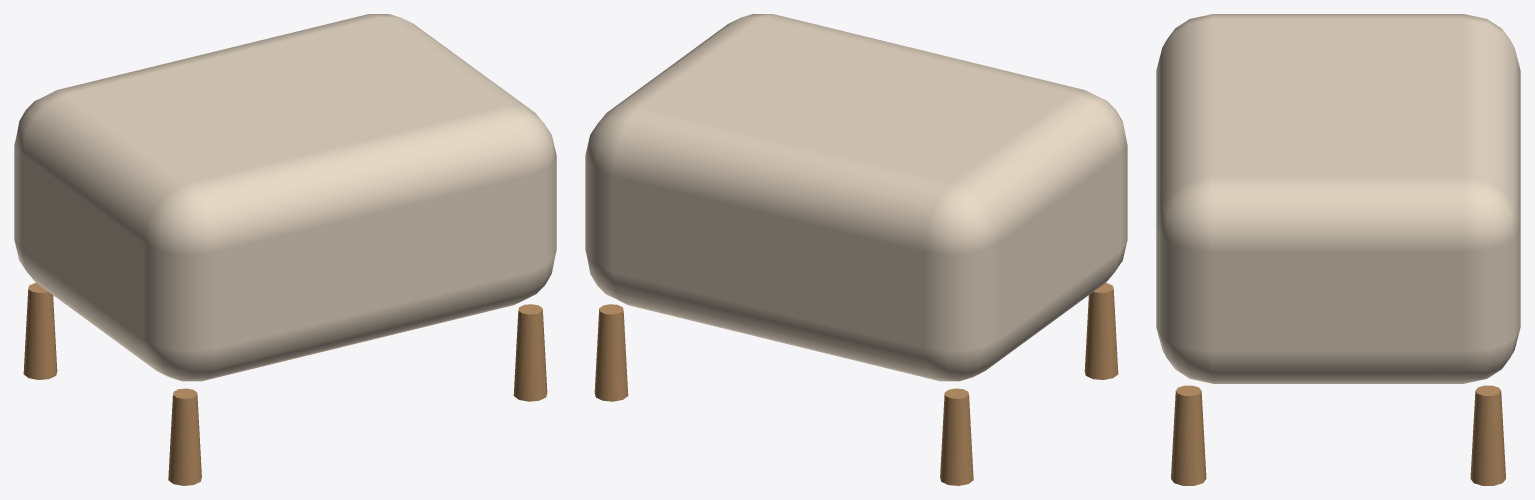
The model's file is ottoman-lite.glb.
3 views of the same model, side by side, from view 1: azimuth 30°, elevation 25°; view 2: azimuth 150°, elevation 25°; view 3: azimuth 270°, elevation 25° (orthographic). The views are drawn at different scales.
Visible parts, largest first — view 1: material-1-upholstery, material-0-leg; view 2: material-1-upholstery, material-0-leg; view 3: material-1-upholstery, material-0-leg.
Part boxes in pixels (x1,y1,x2,y2): material-1-upholstery: (14,14,556,381); material-0-leg: (23,283,547,485); material-1-upholstery: (585,14,1127,381); material-0-leg: (594,283,1118,485); material-1-upholstery: (1156,14,1520,383); material-0-leg: (1171,385,1505,485).
Bounding box in the file's own units: 0.6 × 0.4 × 0.45.
